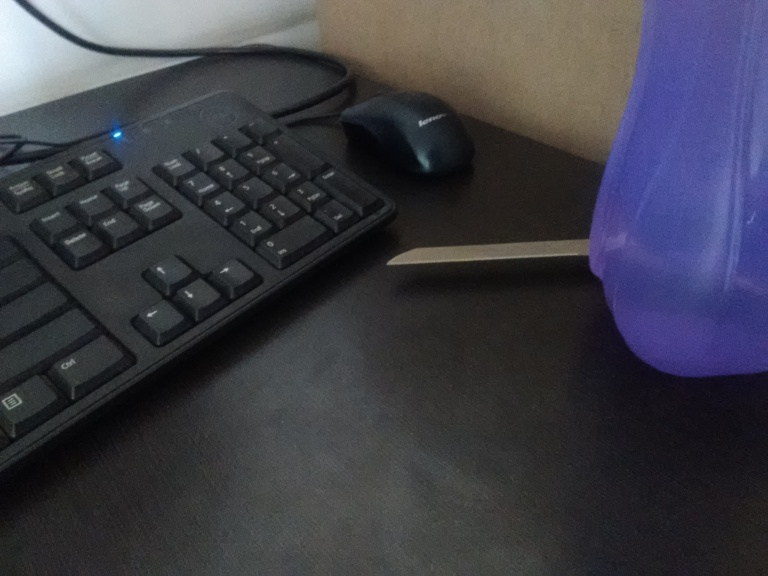knife: (389, 232, 589, 265)
